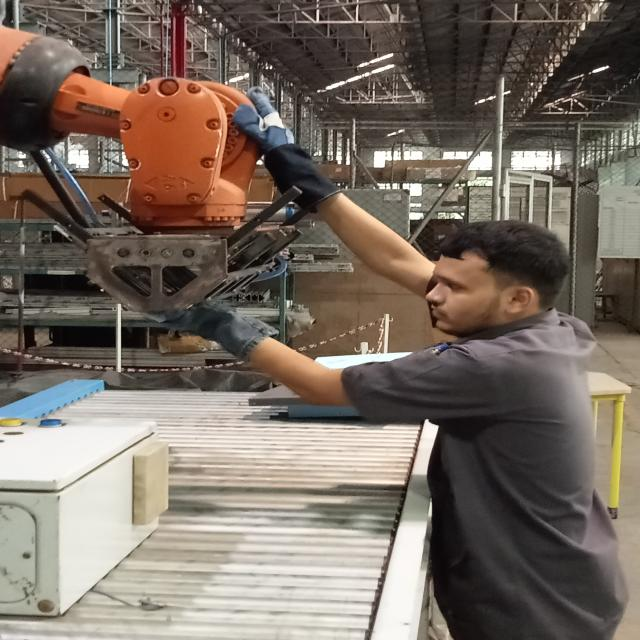Gloves-Detection: (228, 87, 338, 204), (164, 306, 269, 354)
